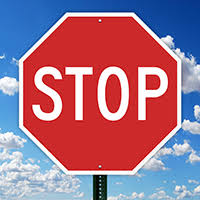stop sign: (20, 11, 180, 172)
